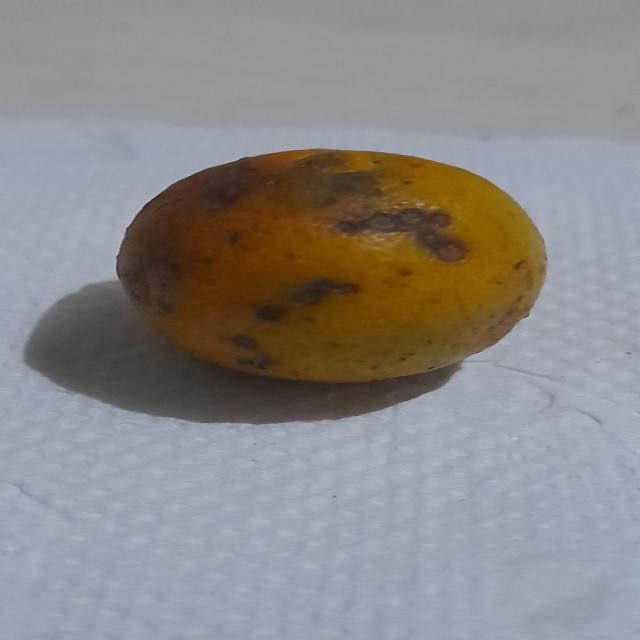black spot: (120, 142, 556, 383)
